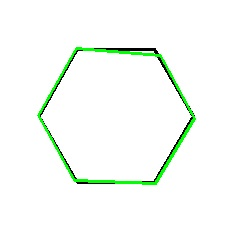line_segment: (38, 47, 195, 185)
